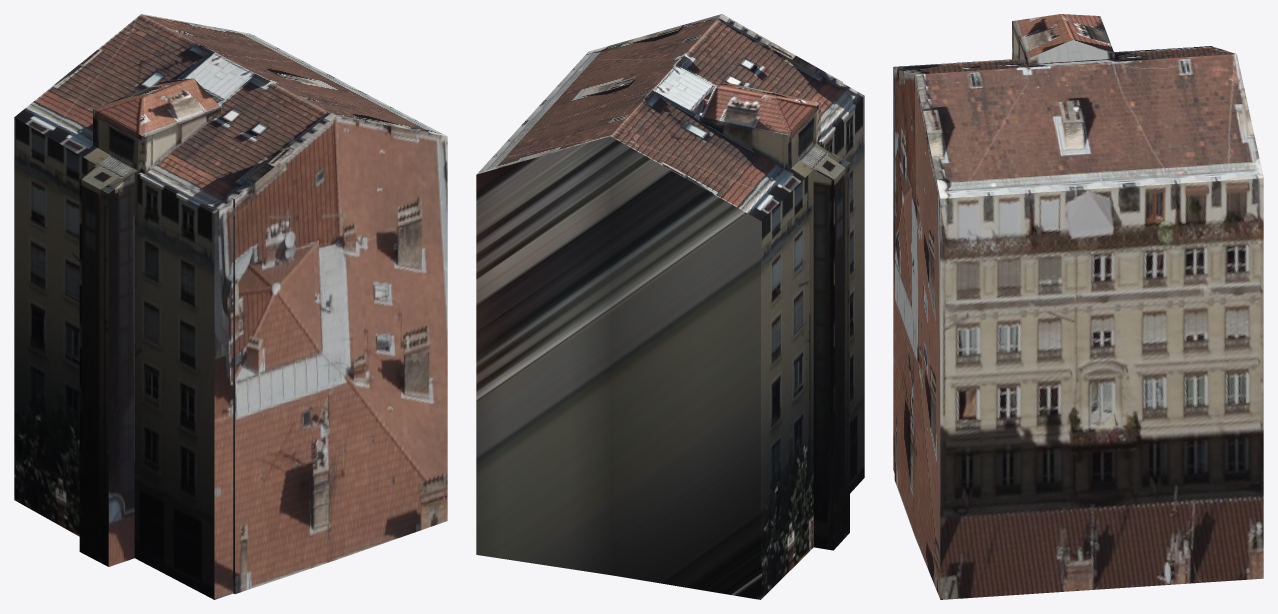
3 renders of one model, left to right at view 1: azimuth 30°, elevation 25°; view 2: azimuth 150°, elevation 25°; view 3: azimuth 270°, elevation 25°, orthographic. The views are drawn at different scales.
Parts seen in each view (by area): view 1: Z_UP; view 2: Z_UP; view 3: Z_UP.
Boxes of the visible parts, left/top/right/bottom form: Z_UP: left=14, top=14, right=447, bottom=599; Z_UP: left=476, top=14, right=864, bottom=599; Z_UP: left=893, top=14, right=1263, bottom=599.
Size of the model in its own units: 19.33 by 26.62 by 19.32.
Materials: 2 (1 with a texture image).
